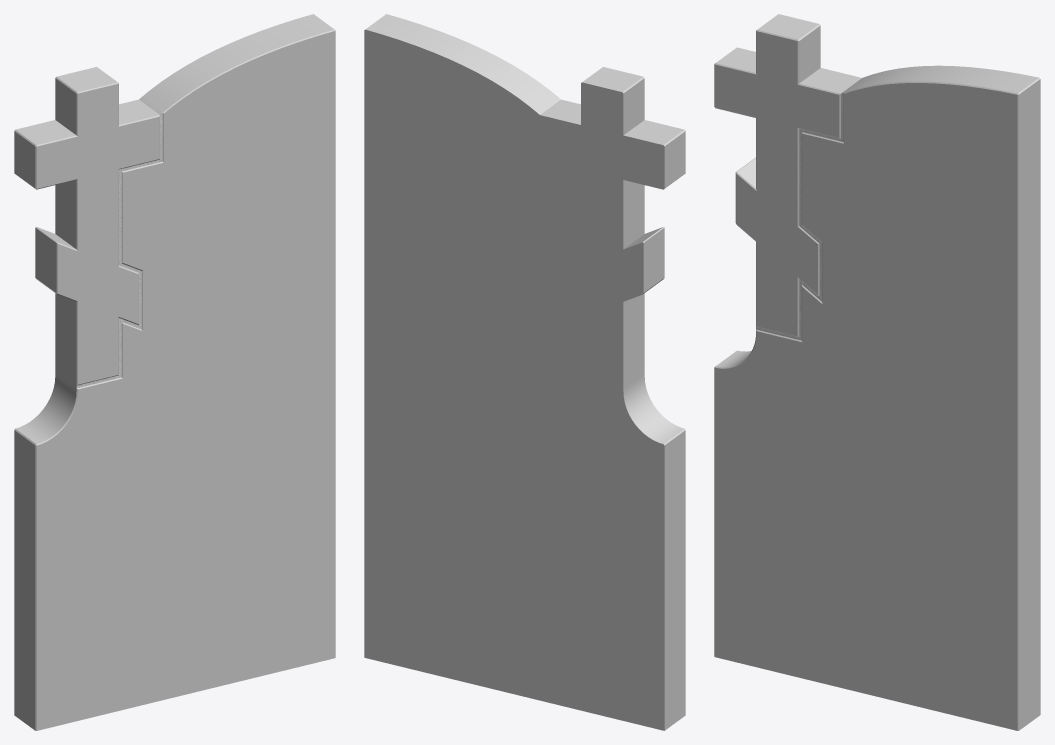
File: cn39ab1f6dbe_tkf.glb
3 renders of one model, left to right at view 1: azimuth 30°, elevation 25°; view 2: azimuth 150°, elevation 25°; view 3: azimuth 330°, elevation 25°, orthographic.
Parts seen in each view (by area): view 1: Pam-v-230-1, Pam-v-230-1_2_notexture; view 2: Pam-v-230-1; view 3: Pam-v-230-1, Pam-v-230-1_2_notexture.
Part boxes in pixels (x1,y1,x2,y2): Pam-v-230-1: (14,14,335,730); Pam-v-230-1_2_notexture: (76,113,162,387); Pam-v-230-1: (364,14,685,730); Pam-v-230-1: (714,14,1040,730); Pam-v-230-1_2_notexture: (756,93,843,340).
Bounding box in the file's own units: 0.4 × 0.8 × 0.05.
Materials: 1 (1 with a texture image).
